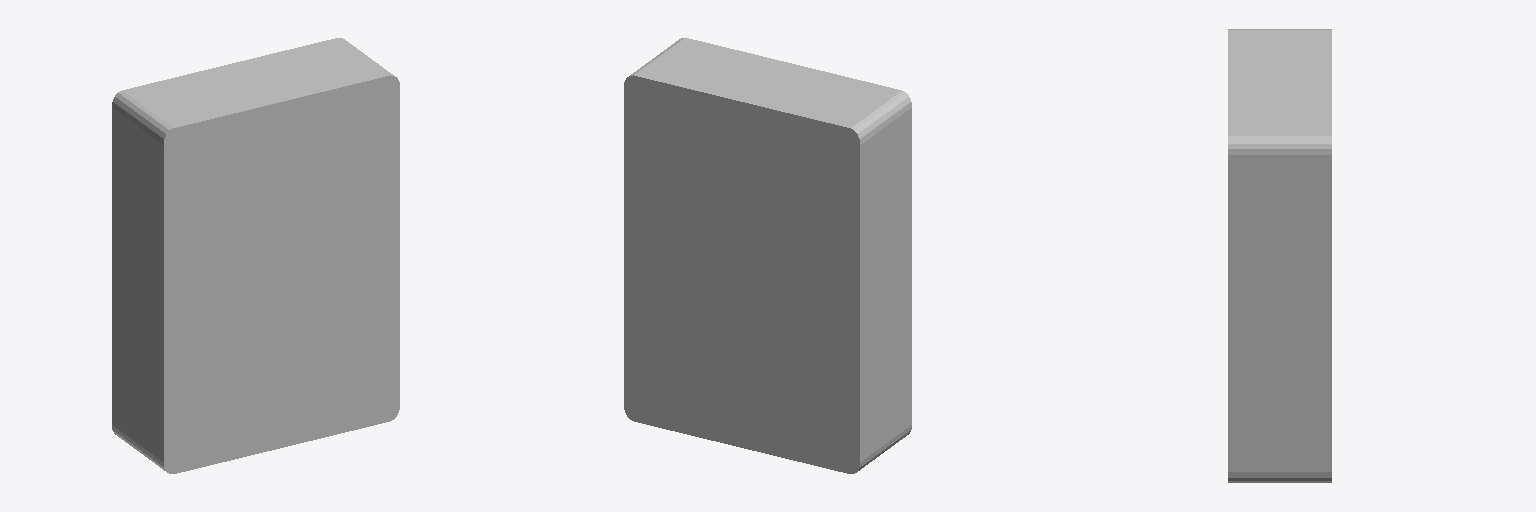
Rendered from card.obj.
The picture shows the model from 3 angles: view 1: azimuth 30°, elevation 25°; view 2: azimuth 150°, elevation 25°; view 3: azimuth 270°, elevation 25°; orthographic projection.
Visible parts, largest first — view 1: Cube; view 2: Cube; view 3: Cube.
Boxes of the visible parts, x1,y1,x2,y2 form: Cube: [112, 38, 399, 473]; Cube: [624, 38, 911, 473]; Cube: [1228, 29, 1331, 482].
Bounding box in the file's own units: 2 × 2.8 × 0.7581.